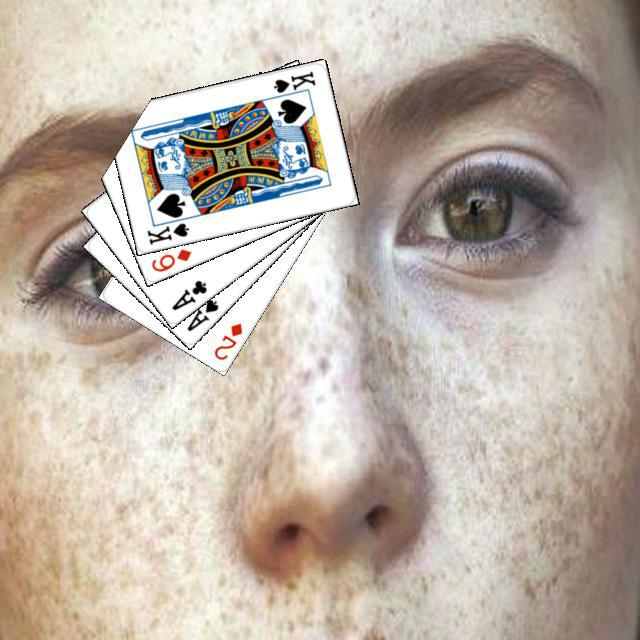2d: (209, 318, 244, 362)
6d: (146, 244, 193, 273)
Ac: (166, 275, 209, 312)
As: (182, 294, 220, 333)
Ks: (267, 66, 317, 100), (142, 218, 191, 246)
